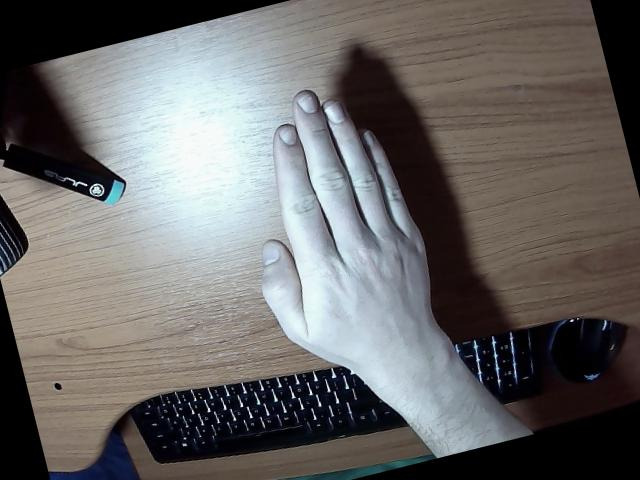paper: (262, 92, 528, 457)
